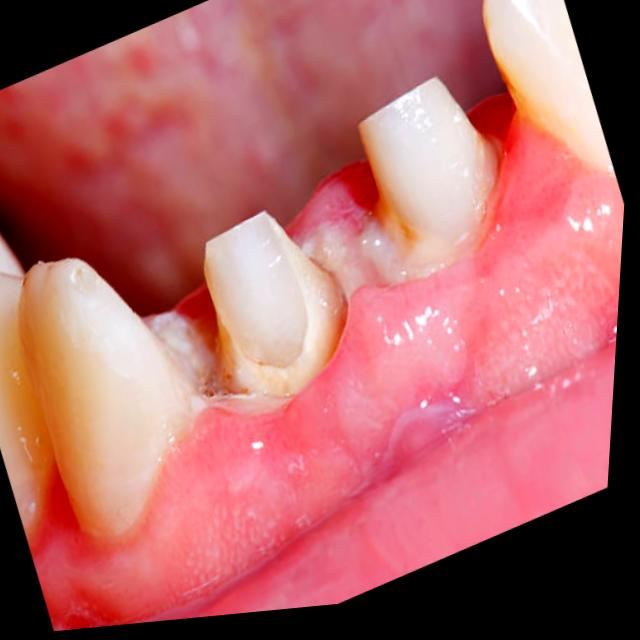gingivitis: (31, 98, 624, 630)
